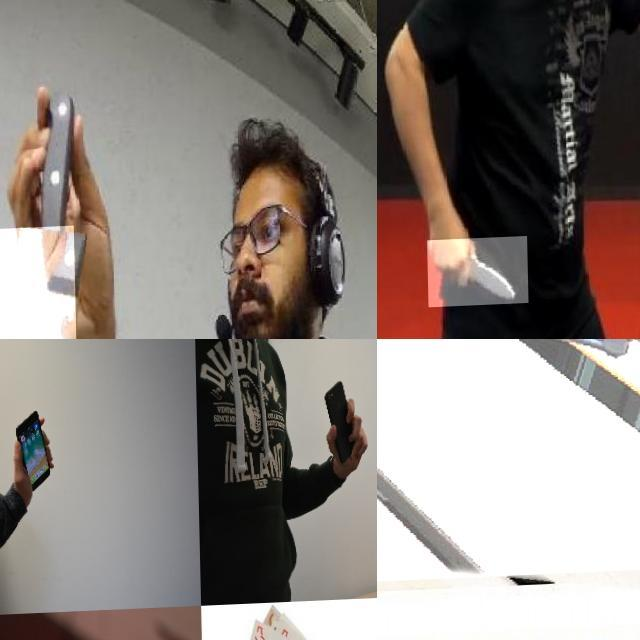-: (0, 227, 79, 339), (425, 237, 526, 308)
gun-knife-thesis - v11 Yolov5 augmented: (377, 339, 640, 596)
